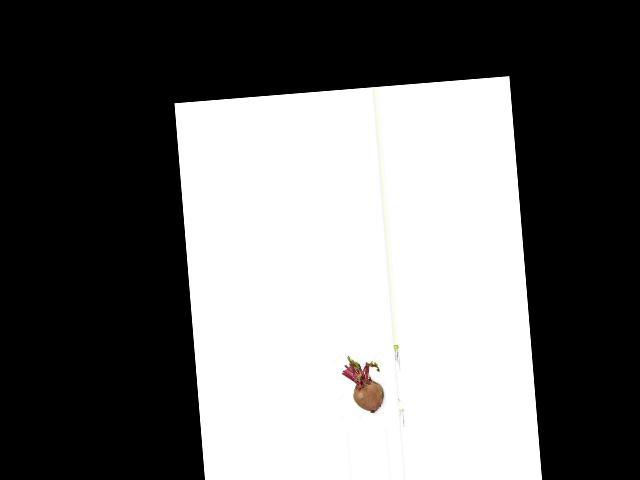beet: (341, 354, 384, 415)
